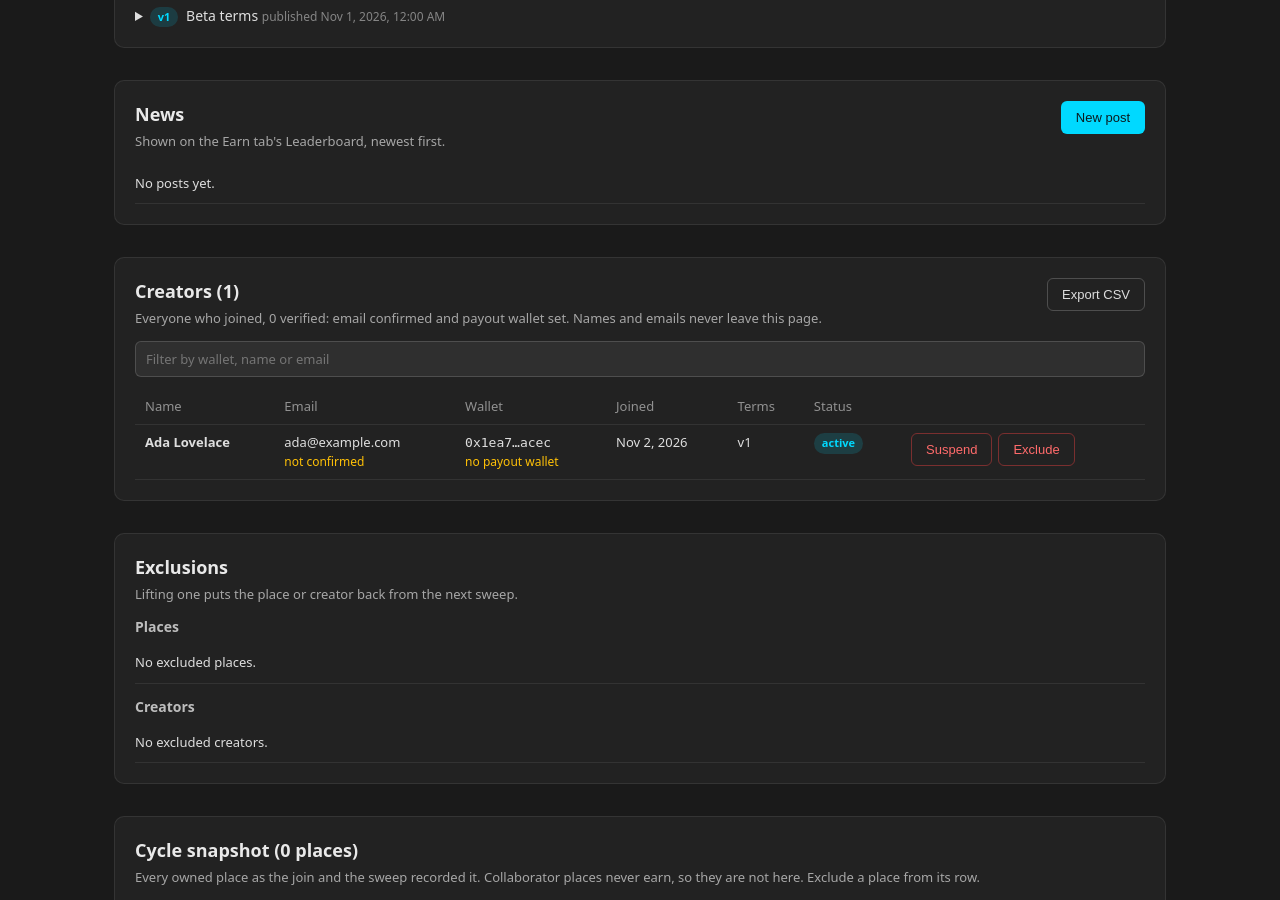
CreatorFundPage › keeps the dialog open with the service message when the write is refused
This screenshot has width=1280, height=900.
(page scrolled)
Step 1. Click the button "Suspend" → click(952, 450), box [911,433,992,466]
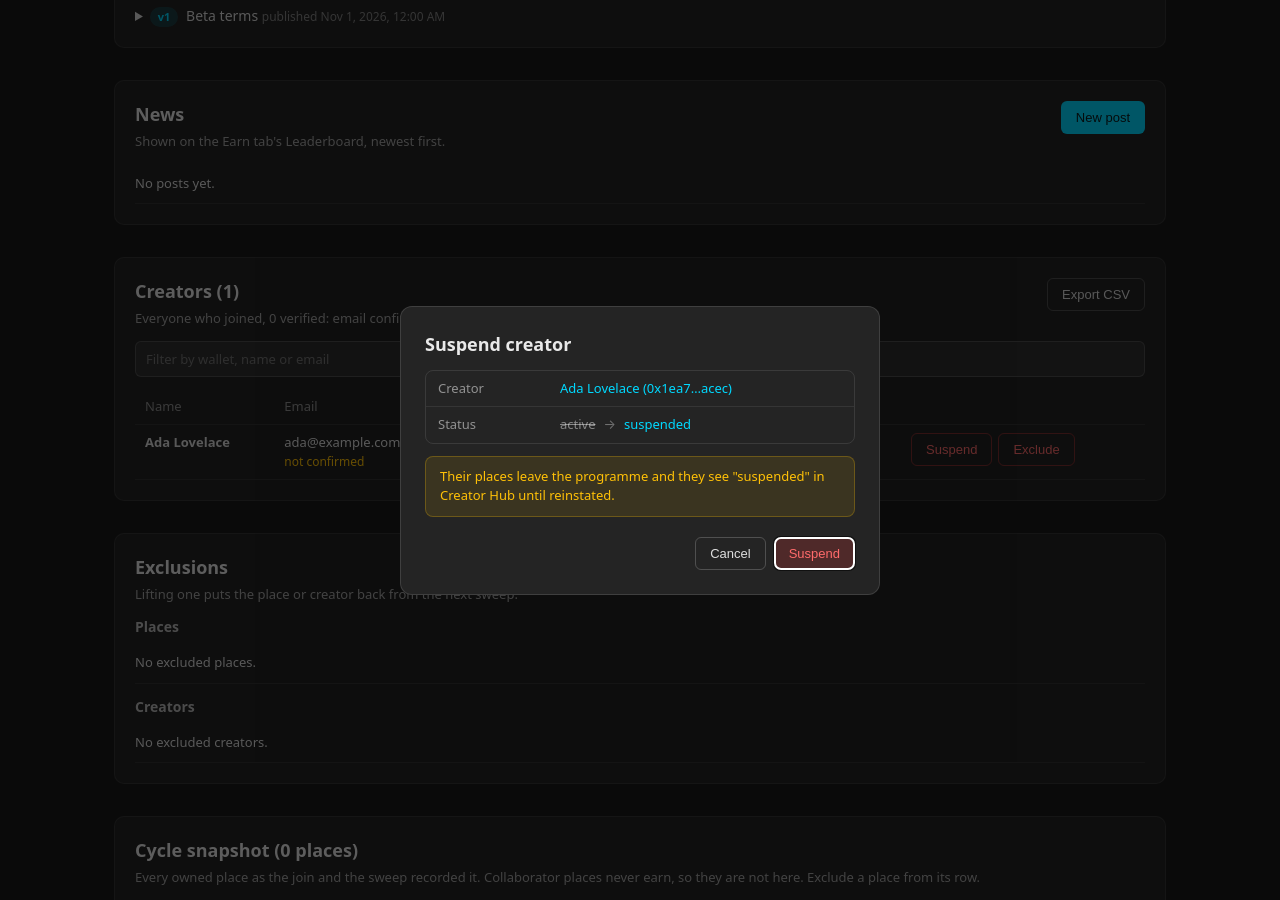
Step 2. Click the button "Suspend" → click(814, 553), box [774,536,855,570]
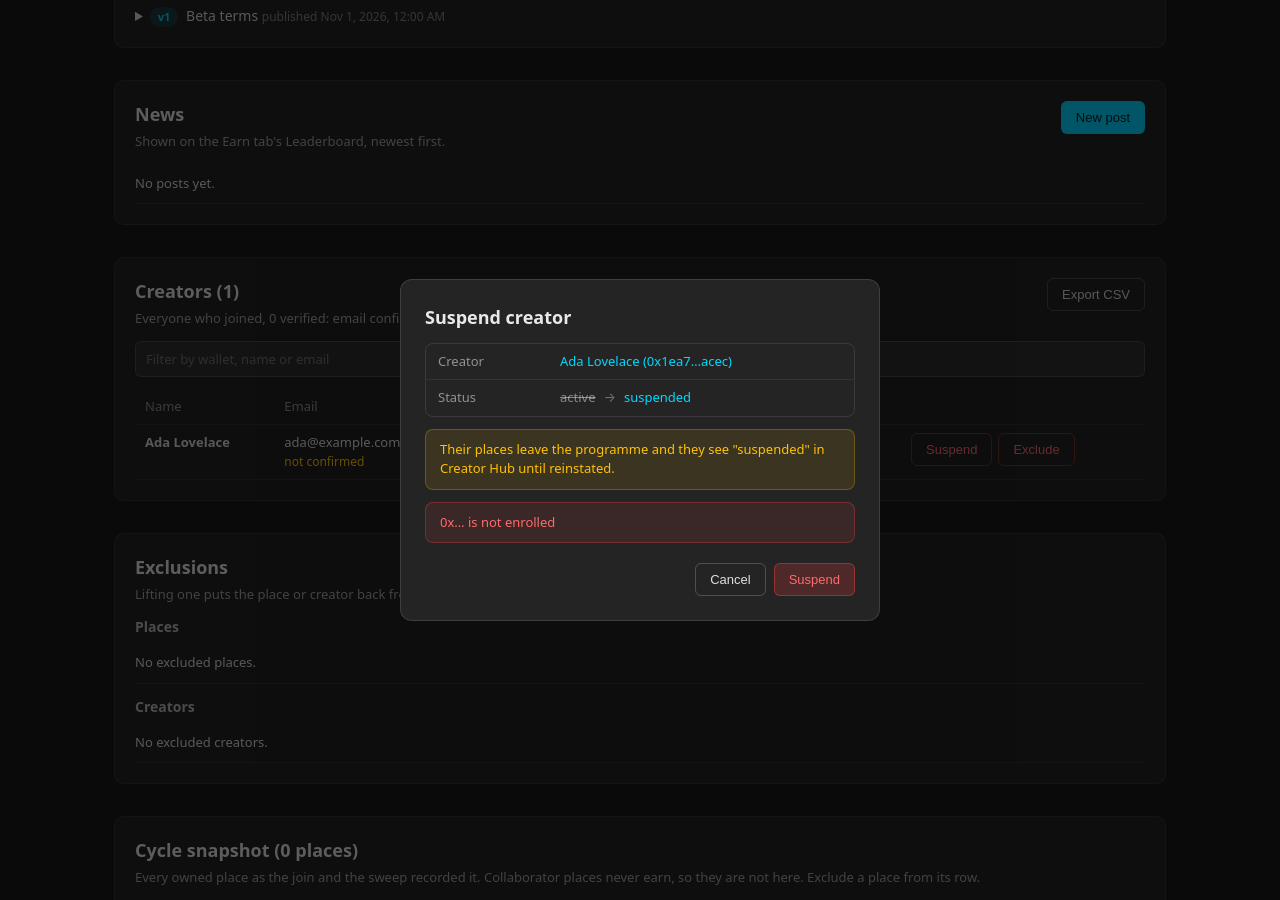
Result: the text "0x… is not enrolled" is shown at [425,502,855,543]
